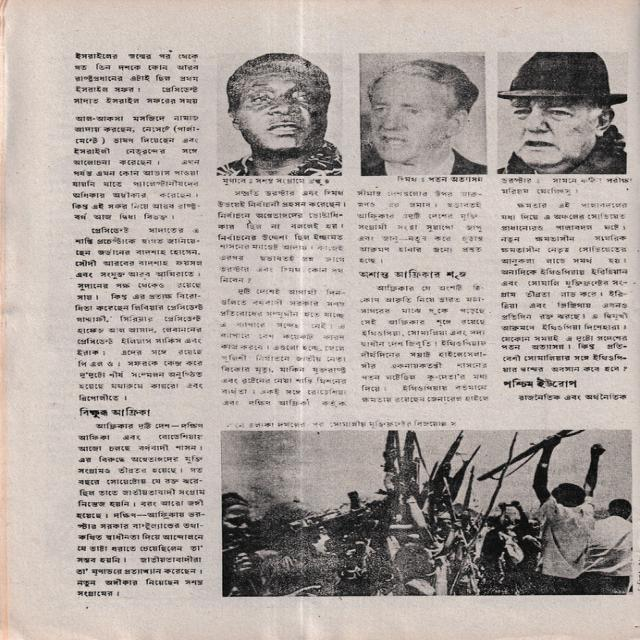caption: (224, 418, 459, 429), (500, 176, 633, 195), (220, 178, 333, 187), (397, 176, 485, 183)
image: (219, 428, 634, 598), (496, 51, 630, 176), (358, 51, 489, 177), (215, 52, 344, 177)
paragraph: (74, 420, 208, 599), (71, 225, 205, 402), (500, 200, 631, 374), (71, 51, 201, 221), (358, 283, 491, 404), (219, 287, 349, 408), (216, 188, 347, 284), (353, 187, 486, 265), (516, 390, 629, 402)
title: (357, 269, 468, 281), (501, 376, 580, 390), (78, 406, 151, 420)
